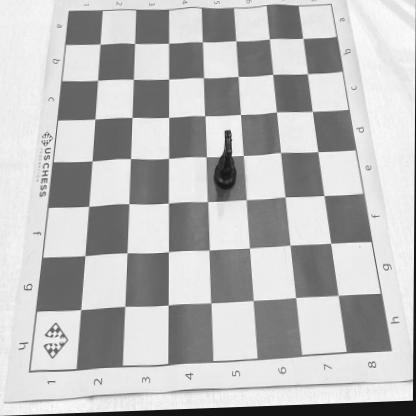black-knight: (214, 131, 237, 193)
